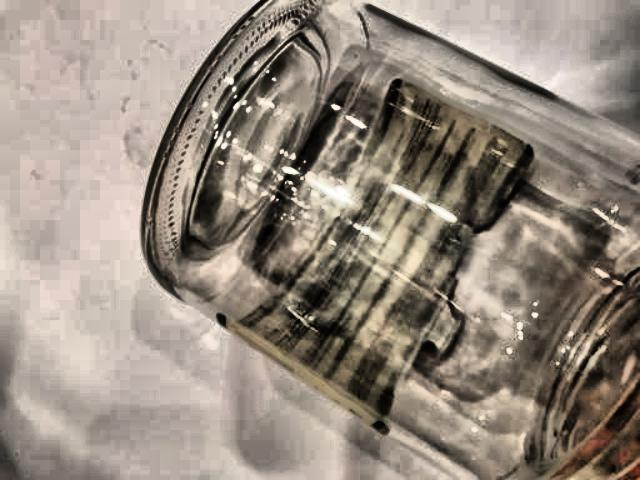Almennt: (129, 0, 640, 480)
